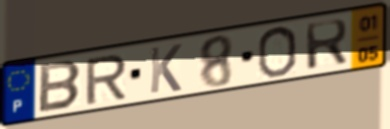8: (197, 33, 236, 89)
B: (36, 59, 84, 115)
K: (148, 42, 184, 96)
O: (255, 23, 299, 80)
R: (303, 17, 351, 73), (84, 52, 129, 107)
